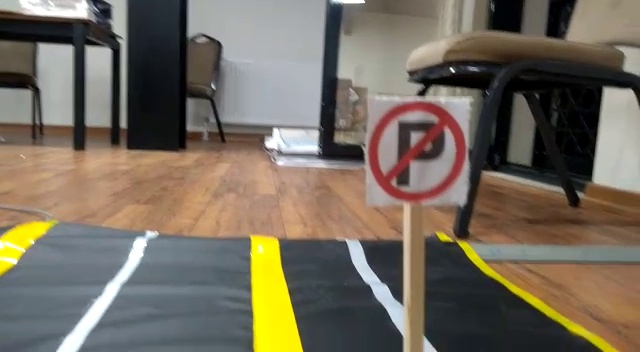park_yapilmaz: (366, 96, 468, 202)
